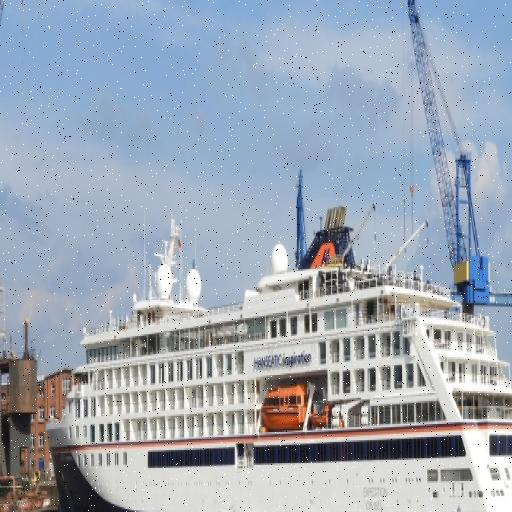cruises: (46, 214, 512, 512)
